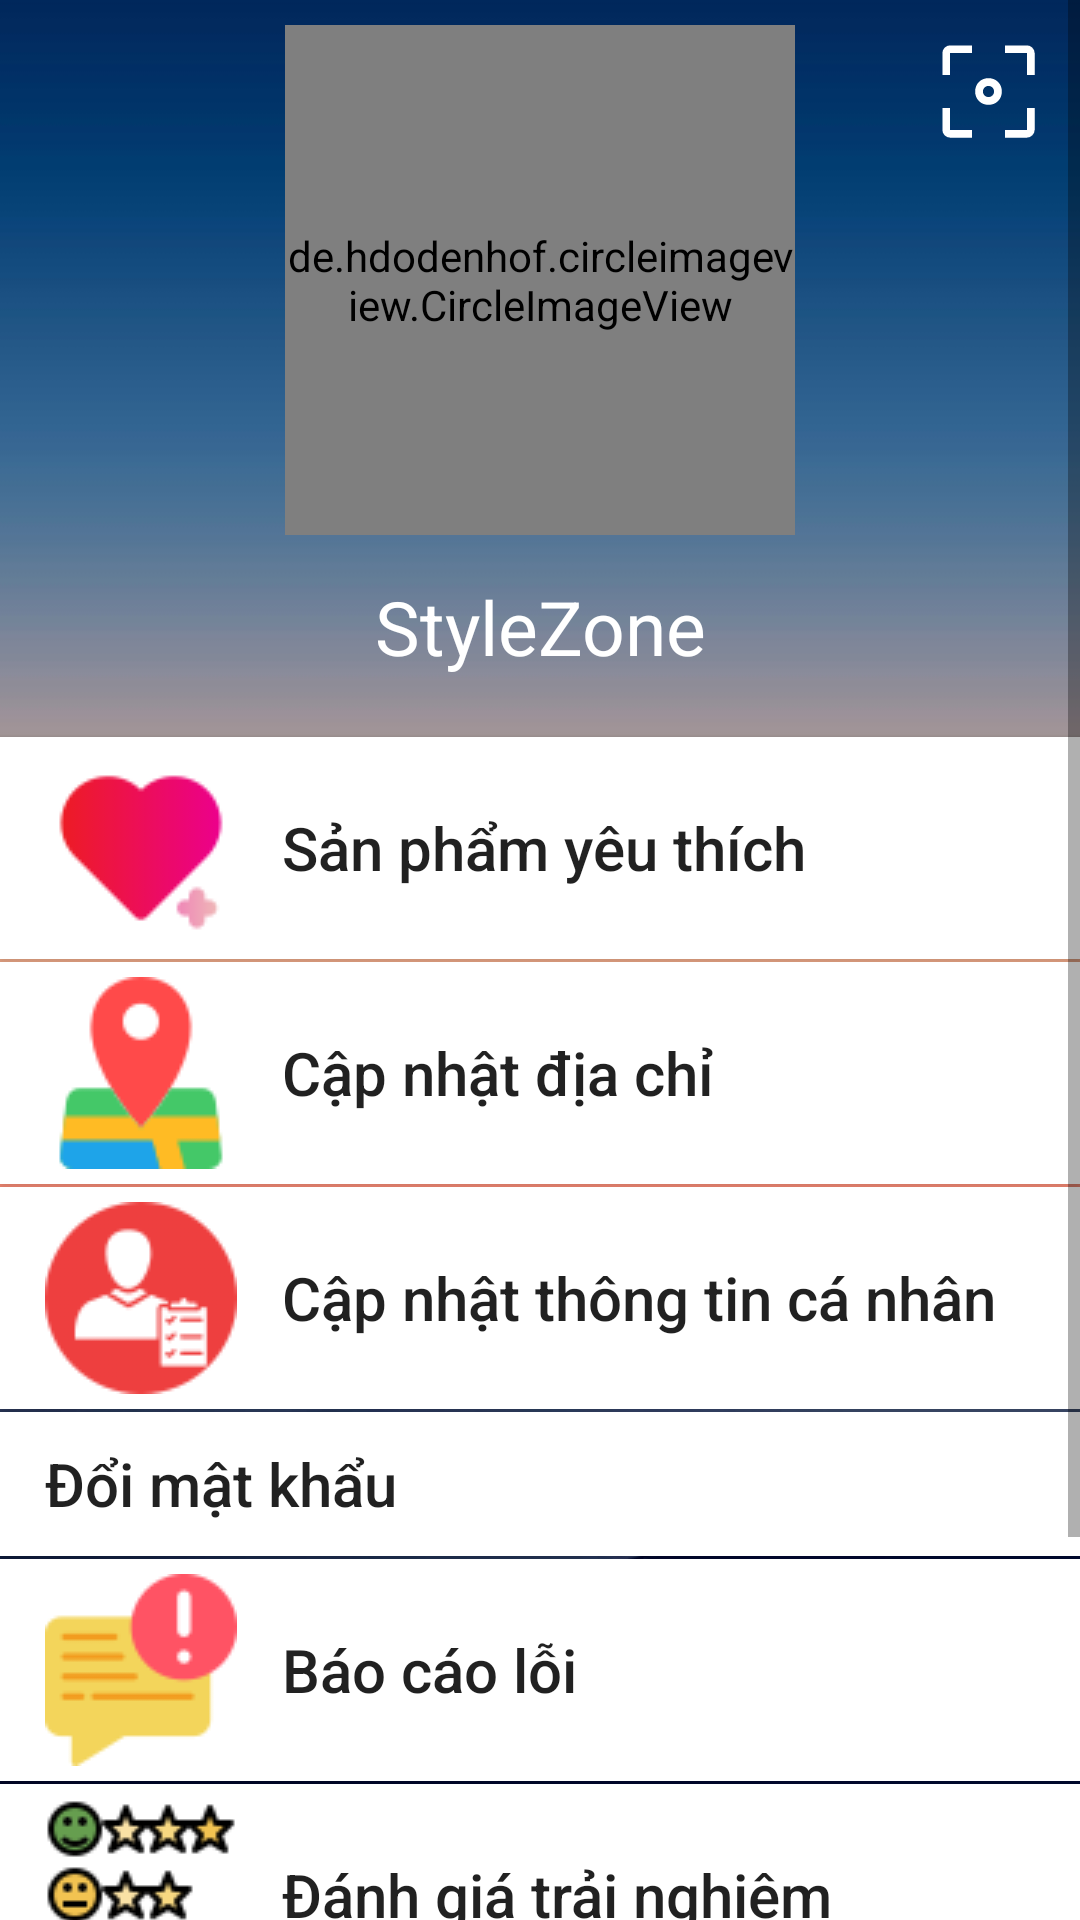

Icons on this 1080×1920 Android screen, each with its box as (x1, y1, x2, y2):
filter center focus: (927, 45, 1050, 153)
